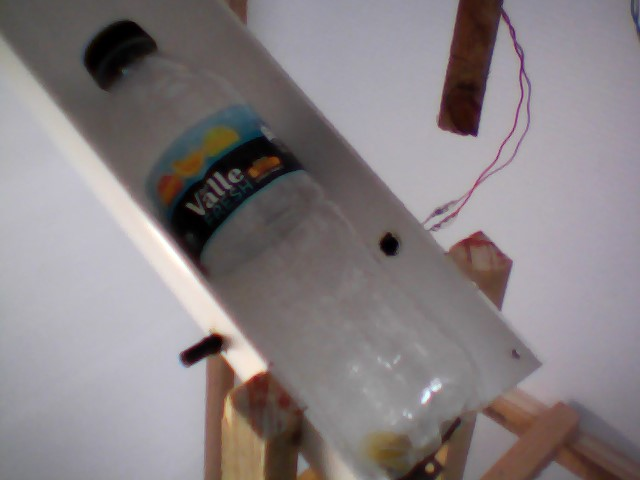plastico: (76, 10, 494, 480)
